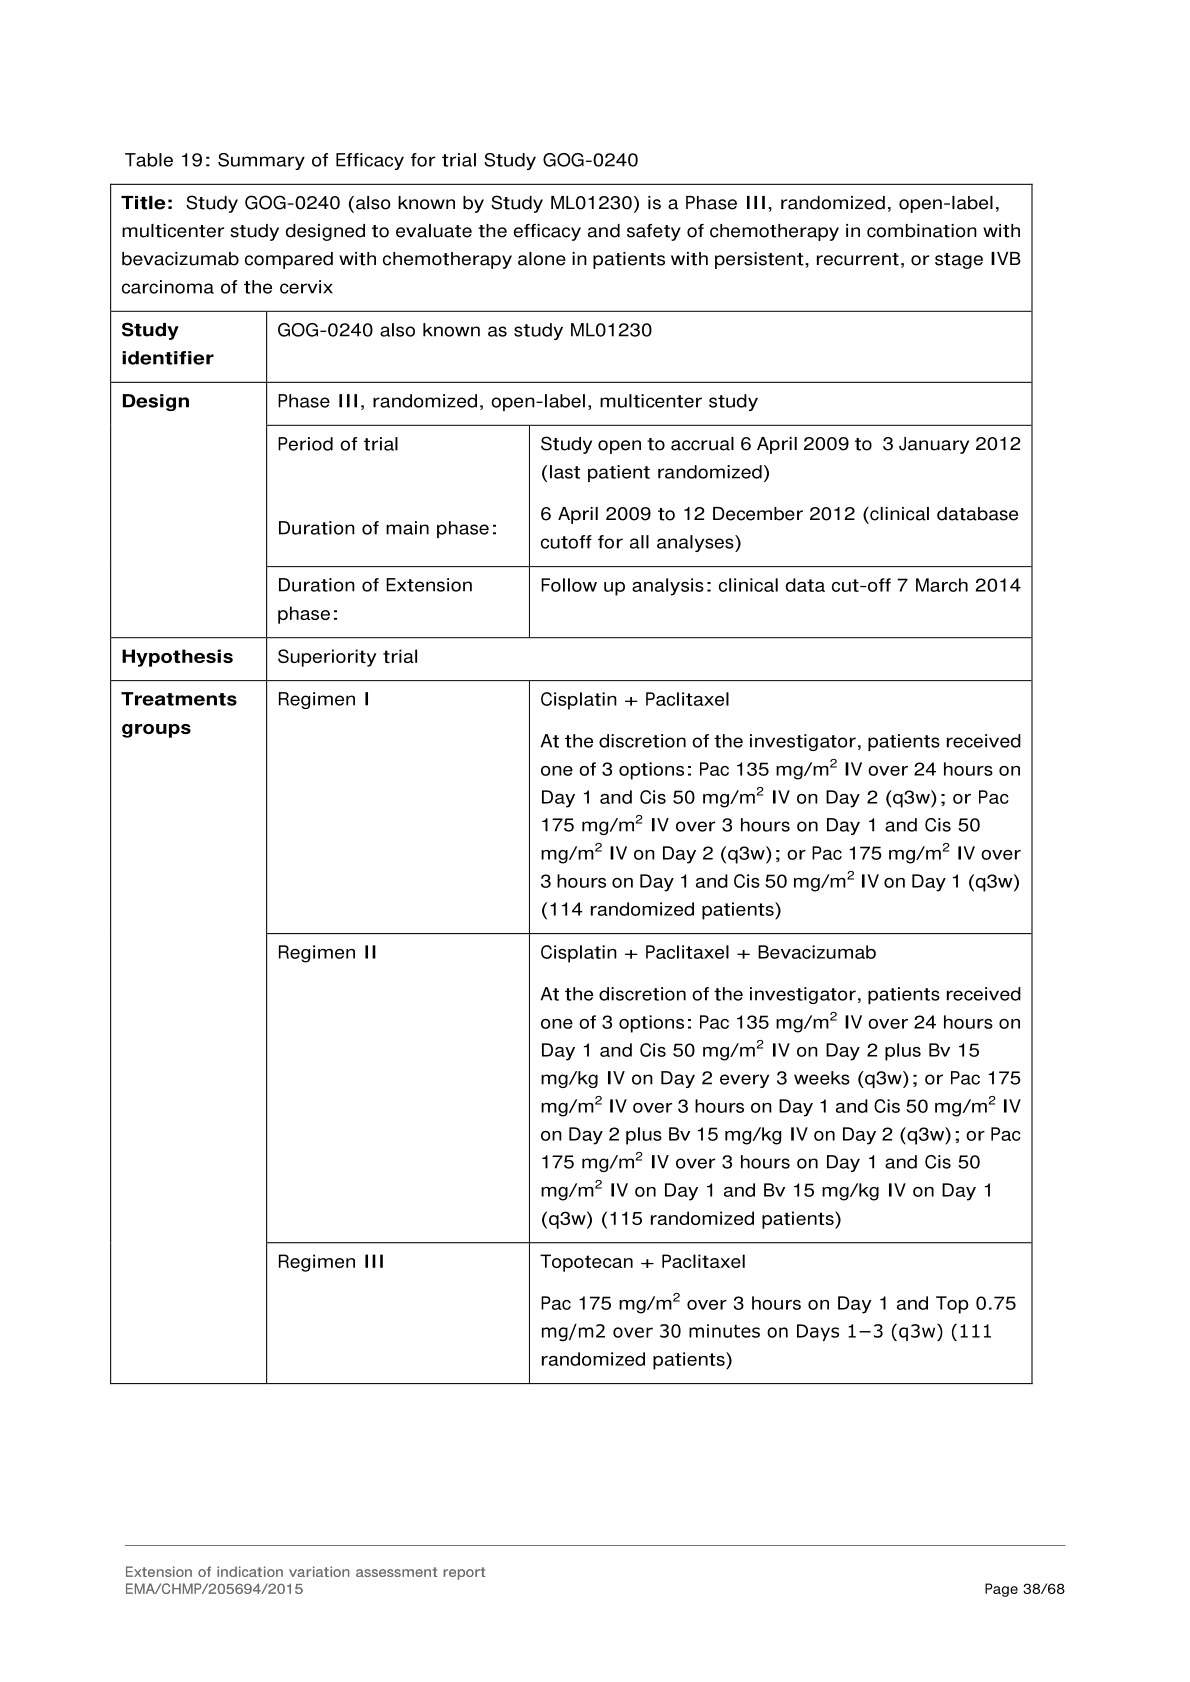merged_cells: (109, 183, 1034, 1384)
